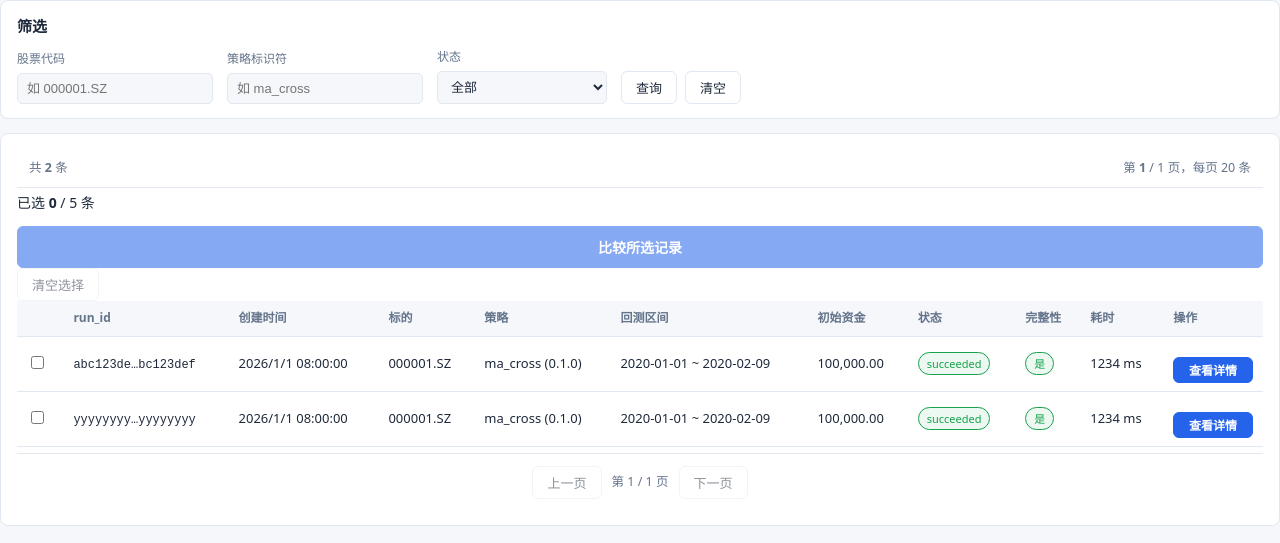
HistoryList › 清空按钮重置所有选择
The image size is (1280, 543).
What coordinates should you click on to do the following:
click the checkbox named "选择 run abc123de…bc123def"
I would click on:
 (38, 362)
Its box is [31,356,44,369].
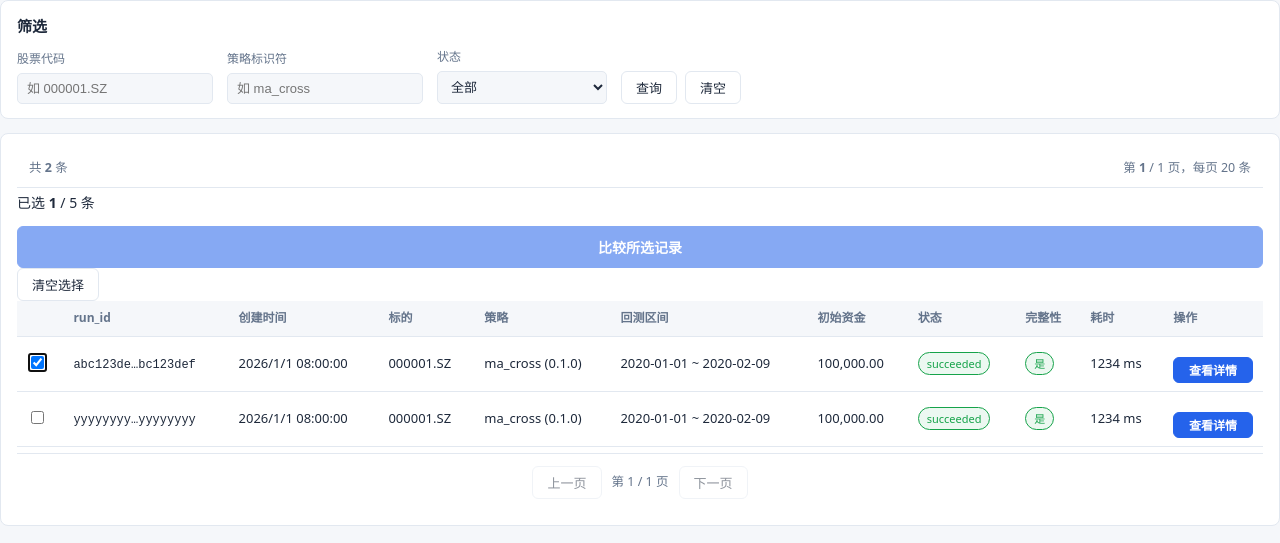
What coordinates should you click on to do the following:
click the checkbox named "选择 run yyyyyyyy…yyyyyyyy"
I would click on:
 (38, 417)
Its box is [31,411,44,424].
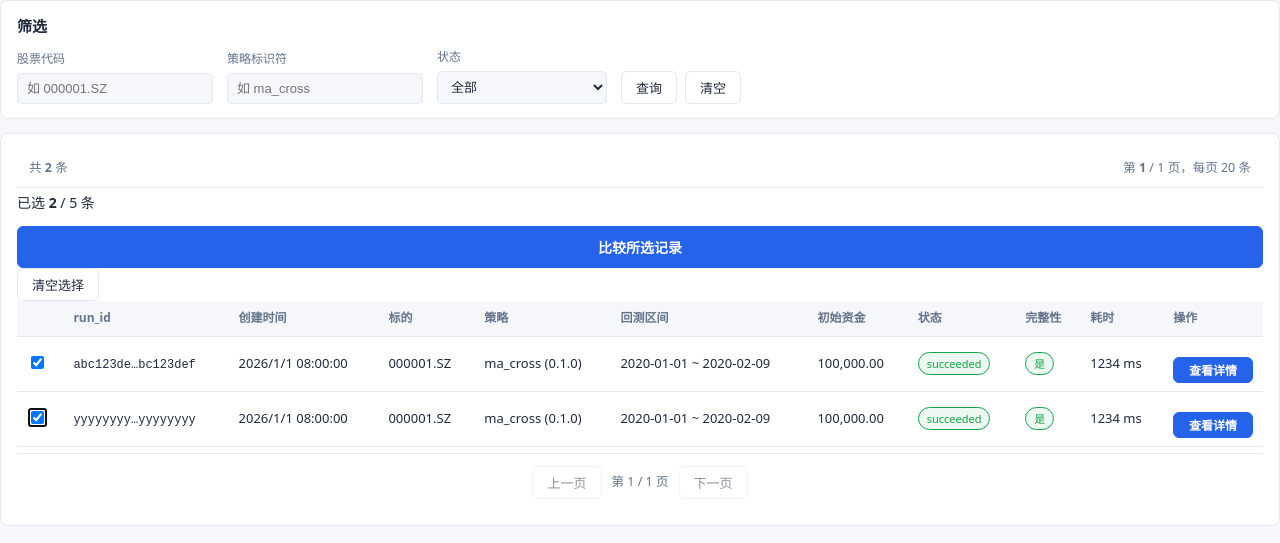
What coordinates should you click on to do the following:
click the button with test id "compare-clear-selection"
I would click on:
 (58, 284)
Its box is [17,268,99,301].
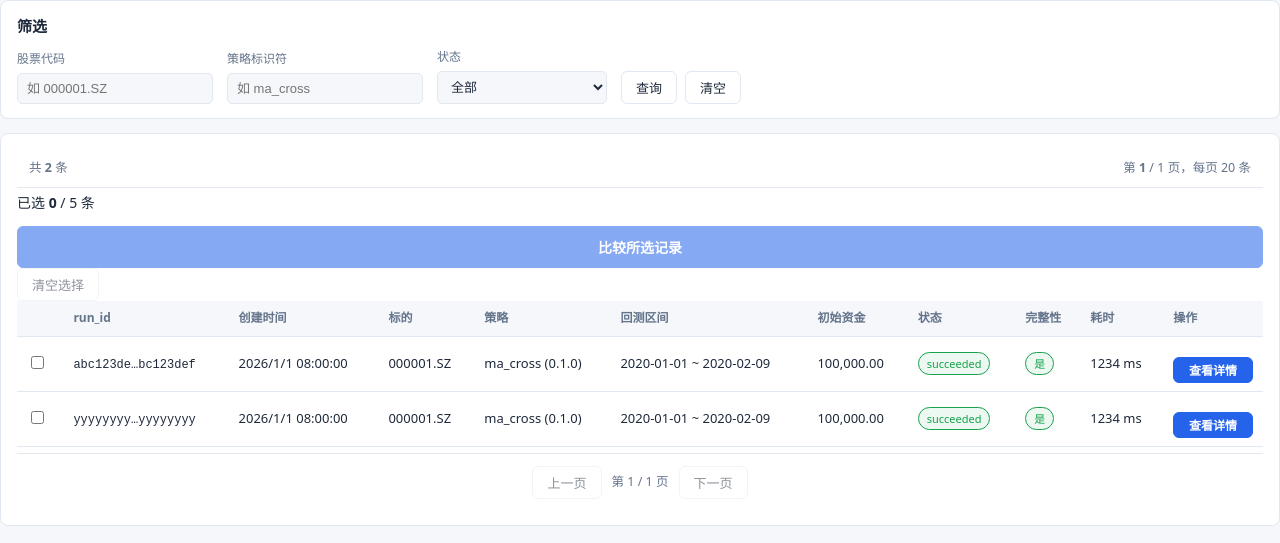
Now the button with test id "compare-selected" is disabled, box [17,226,1263,268]
